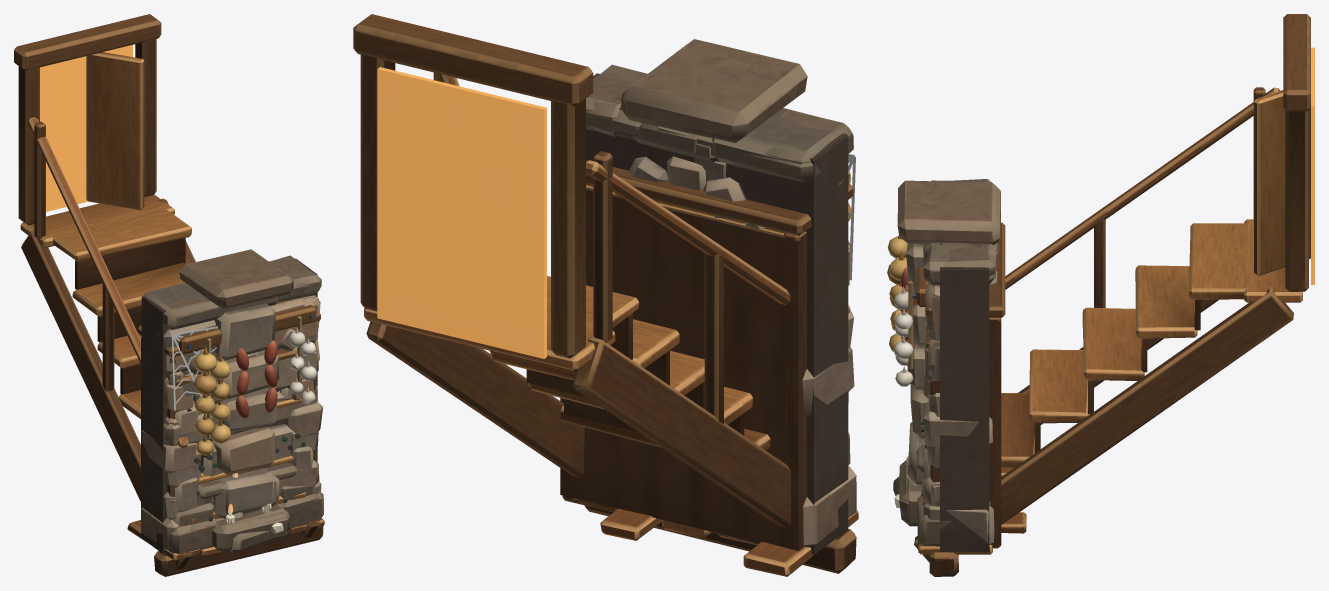
The model's file is env-cellar.hq.glb.
3 renders of one model, left to right at view 1: azimuth 30°, elevation 25°; view 2: azimuth 150°, elevation 25°; view 3: azimuth 270°, elevation 25°, orthographic. The views are drawn at different scales.
Visible parts, largest first — view 1: stairs, stone-pillar, stone-arch, stone-doorway, stone-wall, hanging-food, floor-edge, stone-pillar-low, wine-rack, candles, stone-wall-low, shelf (+1 smaller); view 2: stairs, wine-rack, stone-arch, stone-pillar, stone-doorway, stone-wall, floor-edge; view 3: stairs, stone-doorway, stone-pillar, wine-rack, hanging-food, stone-arch, stone-wall, floor-edge, stone-pillar-low.
Part boxes in pixels (x1,y1,x2,y2): stairs: [14, 14, 319, 569]; stone-pillar: [179, 249, 293, 552]; stone-arch: [141, 255, 320, 554]; stone-doorway: [141, 261, 322, 553]; stone-wall: [142, 258, 323, 553]; hanging-food: [179, 305, 317, 455]; floor-edge: [127, 518, 324, 576]; stone-pillar-low: [213, 475, 289, 552]; wine-rack: [137, 312, 320, 525]; candles: [225, 473, 283, 553]; stone-wall-low: [171, 485, 314, 526]; shelf: [176, 349, 303, 483]; stairs: [353, 14, 791, 528]; wine-rack: [560, 160, 853, 550]; stone-arch: [586, 74, 853, 554]; stone-pillar: [621, 39, 807, 539]; stone-doorway: [586, 64, 856, 547]; stone-wall: [586, 73, 856, 516]; floor-edge: [562, 496, 858, 576]; stairs: [914, 14, 1314, 562]; stone-doorway: [923, 179, 997, 551]; stone-pillar: [897, 180, 1000, 526]; wine-rack: [921, 222, 1005, 548]; hanging-food: [887, 235, 927, 386]; stone-arch: [916, 243, 996, 546]; stone-wall: [918, 180, 996, 545]; floor-edge: [918, 467, 1026, 576]; stone-pillar-low: [899, 450, 924, 526].
Bounding box in the file's own units: 1.11 × 2.71 × 2.17.
2 materials, 2 textured.
